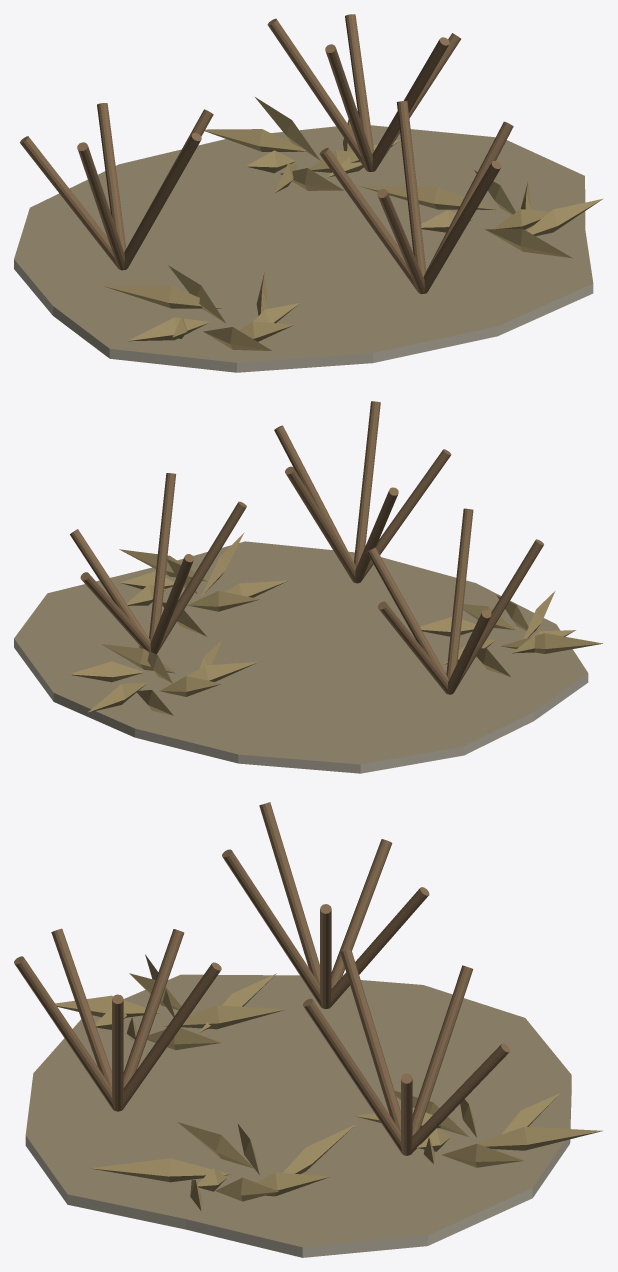
File: Shrub_Cluster_Withered.glb
3 renders of one model, top to bottom at view 1: azimuth 30°, elevation 25°; view 2: azimuth 150°, elevation 25°; view 3: azimuth 270°, elevation 25°, orthographic. The views are drawn at different scales.
Visible parts, largest first — view 1: Support, Growth; view 2: Support, Growth; view 3: Support, Growth.
Part boxes in pixels (x1,y1,x2,y2): Support: (14, 125, 593, 372); Growth: (20, 14, 603, 350); Support: (14, 541, 588, 773); Growth: (68, 401, 602, 715); Support: (25, 974, 571, 1257); Growth: (14, 802, 602, 1210).
Bounding box in the file's own units: 2.79 × 0.9102 × 2.55.
